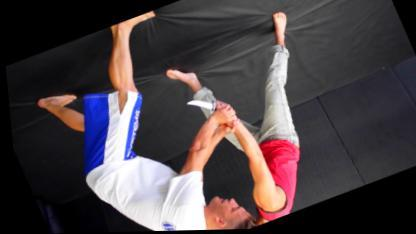knife: (178, 86, 230, 124)
